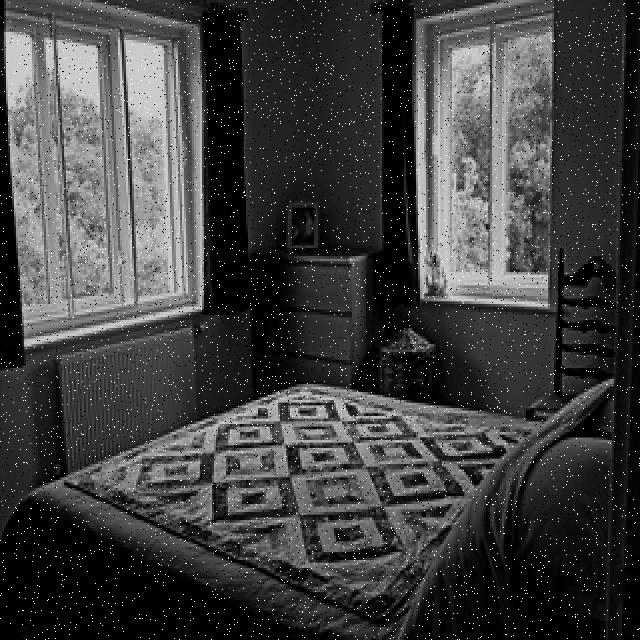bed: (22, 362, 608, 637)
